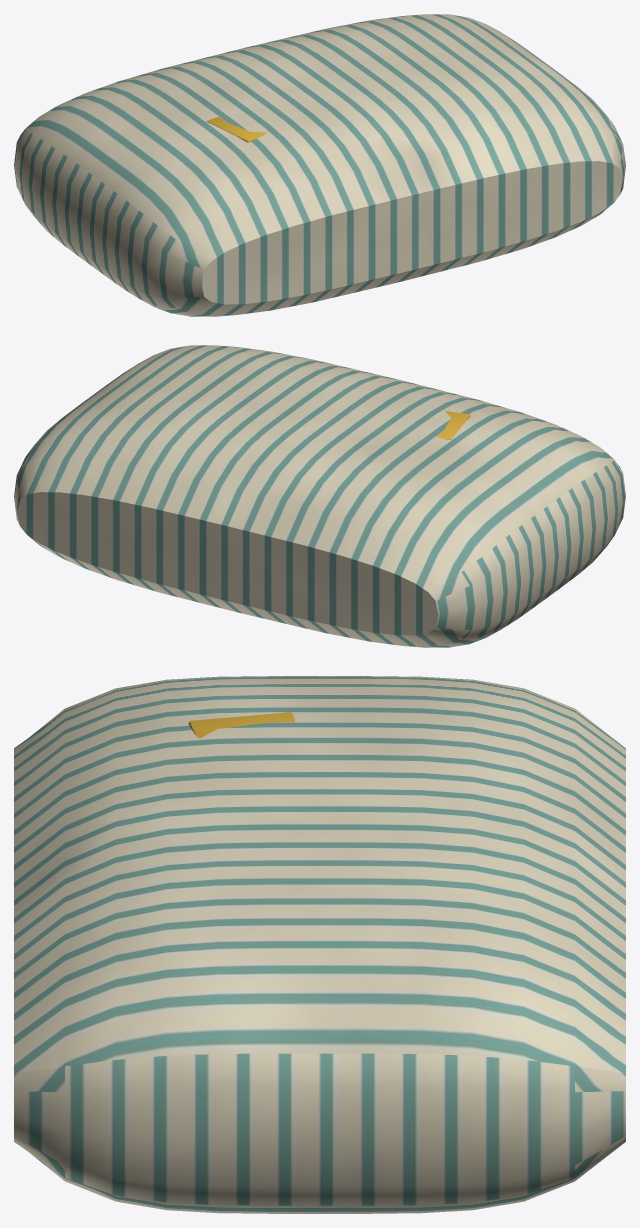
File: pillow.glb
The picture shows the model from 3 angles, top to bottom: view 1: azimuth 30°, elevation 25°; view 2: azimuth 150°, elevation 25°; view 3: azimuth 270°, elevation 25°; orthographic projection. The views are drawn at different scales.
Visible parts, largest first — view 1: PillowBody; view 2: PillowBody; view 3: PillowBody.
Boxes of the visible parts, x1=… form: PillowBody: x1=14, y1=14, x2=625, y2=316; PillowBody: x1=14, y1=345, x2=625, y2=647; PillowBody: x1=14, y1=676, x2=625, y2=1213.
Size of the model in its own units: 0.69 by 0.23 by 0.46.
2 materials, 2 textured.
